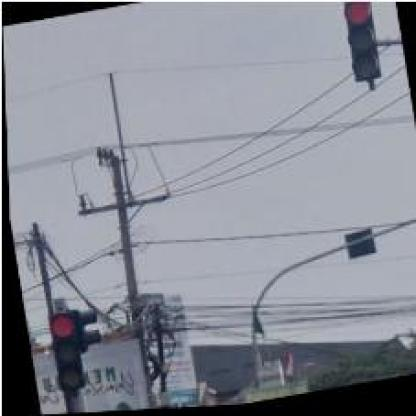red: (339, 0, 383, 88), (42, 308, 84, 396)
